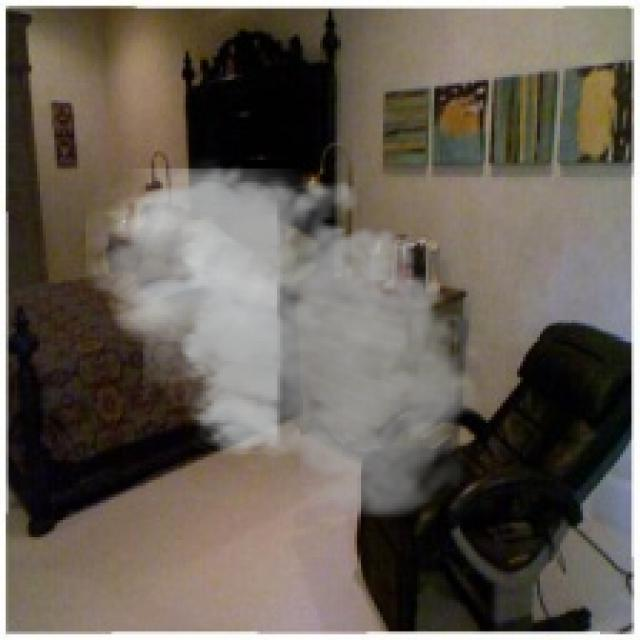Smoke: (86, 154, 494, 526)
